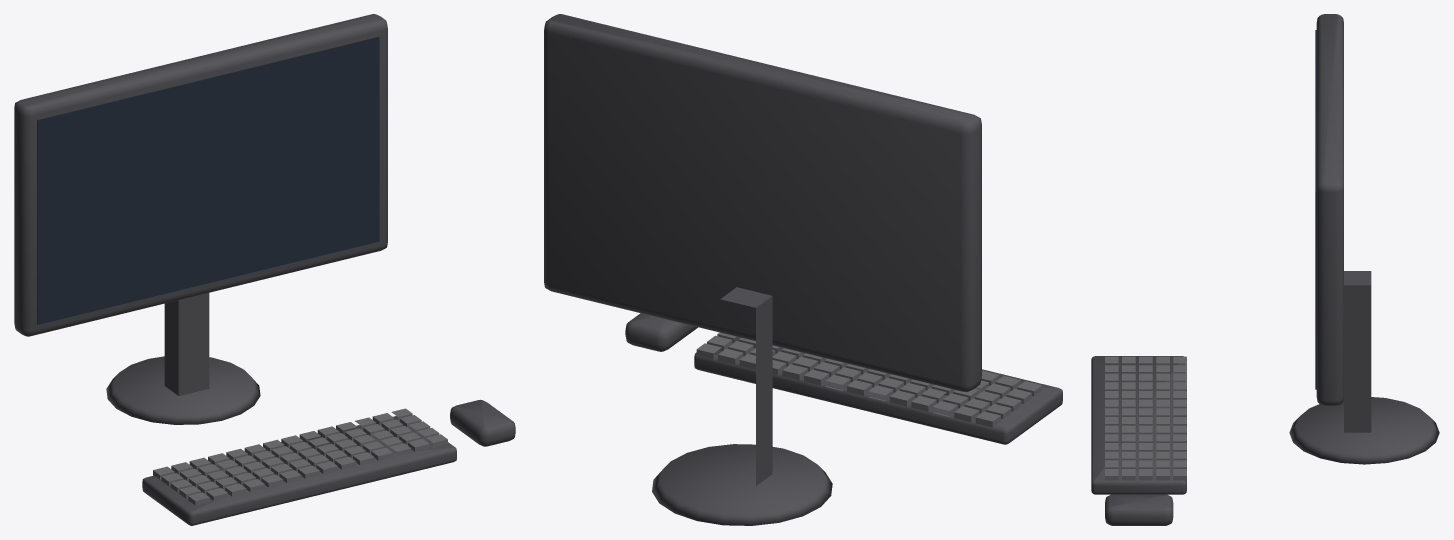
The model's file is pc_set.glb.
The picture shows the model from 3 angles, left to right: view 1: azimuth 30°, elevation 25°; view 2: azimuth 150°, elevation 25°; view 3: azimuth 270°, elevation 25°; orthographic projection. The views are drawn at different scales.
Parts seen in each view (by area): view 1: PCSet; view 2: PCSet; view 3: PCSet.
Boxes of the visible parts, x1,y1,x2,y2 form: PCSet: (14, 14, 515, 525); PCSet: (544, 14, 1062, 525); PCSet: (1091, 14, 1439, 525).
Bounding box in the file's own units: 0.63 × 0.54 × 0.51.
